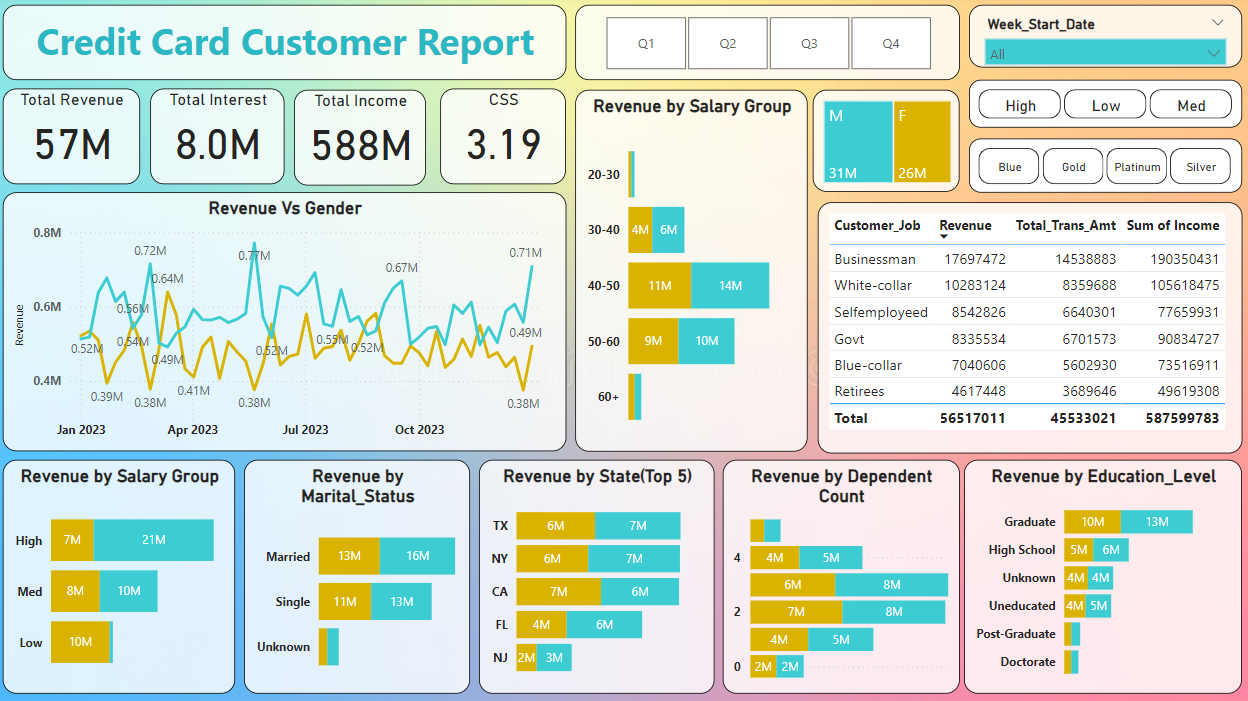

What the dashboard file says about the page in this screenshot:
{"tool":"powerbi","page":{"name":"CC Customer","canvas":[1280,720],"ordinal":2},"visuals":[{"type":"card","title":"Total Revenue","fields":{"Values":["Sum(cc_details.Revenue)"]},"box":[9,94.8,139.7,97.4],"z":0},{"type":"card","title":"Total Interest","fields":{"Values":["Sum(cc_details.Interest_Earned)"]},"box":[158.9,94.8,137.1,97.4],"z":1000},{"type":"tableEx","fields":{"Values":["cust_details.Customer_Job","Sum(cc_details.Revenue)","Sum(cc_details.Total_Trans_Amt)","Sum(cust_details.Income)"]},"box":[839.4,209.8,433,255.7],"z":2000},{"type":"slicer","fields":{"Values":["cc_details.Week_Start_Date"]},"box":[993.2,9,278.1,64.1],"z":3000},{"type":"slicer","fields":{"Values":["cc_details.Quarter"]},"box":[592.1,9,392.2,76.9],"z":4000},{"type":"advancedSlicerVisual","fields":{"Values":["cust_details.Income Group"]},"box":[993.2,85.9,278.1,48.7],"z":5000},{"type":"advancedSlicerVisual","fields":{"Values":["cc_details.Card_Category"]},"box":[993.2,144.8,278.1,55.1],"z":6000},{"type":"textbox","box":[9,9,574.1,76.9],"z":7000},{"type":"card","title":"Total Income","fields":{"Values":["Sum(cust_details.Income)"]},"box":[306.3,96.1,134.6,97.4],"z":8000},{"type":"card","title":"CSS","fields":{"Values":["Avg(cust_details.Cust_Satisfaction_Score)"]},"box":[454.9,94.8,128.2,97.4],"z":9000},{"type":"barChart","title":"Revenue by Salary Group ","fields":{"Category":["cust_details.Income Group"],"Y":["Sum(cc_details.Revenue)"],"Series":["cust_details.Gender"]},"box":[9,472.9,237.1,238.4],"z":10000},{"type":"barChart","title":"Revenue by Education_Level ","fields":{"Y":["Sum(cc_details.Revenue)"],"Series":["cust_details.Gender"],"Category":["cust_details.Education_Level"]},"box":[988.9,472.8,283.4,238.8],"z":11000},{"type":"barChart","title":"Revenue by Marital_Status","fields":{"Y":["Sum(cc_details.Revenue)"],"Series":["cust_details.Gender"],"Category":["cust_details.Marital_Status"]},"box":[255,472.9,230.7,238.4],"z":12000},{"type":"barChart","title":"Revenue by State(Top 5)","fields":{"Y":["Sum(cc_details.Revenue)"],"Series":["cust_details.Gender"],"Category":["cust_details.state_cd"]},"box":[494.7,472.9,239.6,238.4],"z":13000},{"type":"barChart","title":"Revenue by Dependent Count","fields":{"Y":["Sum(cc_details.Revenue)"],"Series":["cust_details.Gender"],"Category":["cust_details.Dependent_Count"]},"box":[742.9,472.8,241.2,238.8],"z":14000},{"type":"barChart","title":"Revenue by Salary Group ","fields":{"Category":["cust_details.Age Group"],"Y":["Sum(cc_details.Revenue)"],"Series":["cust_details.Gender"]},"box":[592.1,96.1,237.1,369.1],"z":15000},{"type":"lineChart","title":"Revenue Vs Gender","fields":{"Series":["cust_details.Gender"],"Category":["cc_details.Week_Start_Date.Variation.Date Hierarchy.Year","cc_details.Week_Start_Date.Variation.Date Hierarchy.Quarter","cc_details.Week_Start_Date.Variation.Date Hierarchy.Month","cc_details.Week_Start_Date.Variation.Date Hierarchy.Day"],"Y":["Sum(cc_details.Revenue)"]},"box":[9,199.9,574.1,264],"z":16000},{"type":"treemap","fields":{"Group":["cust_details.Gender"],"Values":["Sum(cc_details.Revenue)"]},"box":[834.3,96.1,149.9,103.8],"z":17000}]}

Visuals, with their boxes in screenshot pixels (x1, y1, x2, y2), scaled from the page's 1280x720 canvas onto the 1248x701 screenshot:
"Total Revenue" card: bbox(9, 92, 145, 187)
"Total Interest" card: bbox(155, 92, 289, 187)
tableEx - cust_details.Customer_Job x Sum(cc_details.Revenue): bbox(818, 204, 1241, 453)
slicer - cc_details.Week_Start_Date: bbox(968, 9, 1240, 71)
slicer - cc_details.Quarter: bbox(577, 9, 960, 84)
advancedSlicerVisual - cust_details.Income Group: bbox(968, 84, 1240, 131)
advancedSlicerVisual - cc_details.Card_Category: bbox(968, 141, 1240, 195)
textbox: bbox(9, 9, 569, 84)
"Total Income" card: bbox(299, 94, 430, 188)
"CSS" card: bbox(444, 92, 569, 187)
"Revenue by Salary Group " barChart: bbox(9, 460, 240, 693)
"Revenue by Education_Level " barChart: bbox(964, 460, 1240, 693)
"Revenue by Marital_Status" barChart: bbox(249, 460, 474, 693)
"Revenue by State(Top 5)" barChart: bbox(482, 460, 716, 693)
"Revenue by Dependent Count" barChart: bbox(724, 460, 959, 693)
"Revenue by Salary Group " barChart: bbox(577, 94, 808, 453)
"Revenue Vs Gender" lineChart: bbox(9, 195, 569, 452)
treemap - cust_details.Gender x Sum(cc_details.Revenue): bbox(813, 94, 960, 195)
